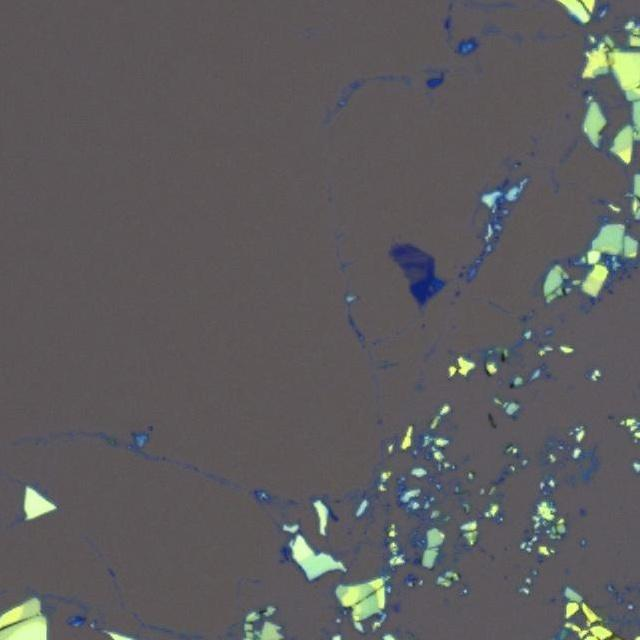monolayer-eWW4: (402, 268, 427, 285), (394, 252, 428, 262)
